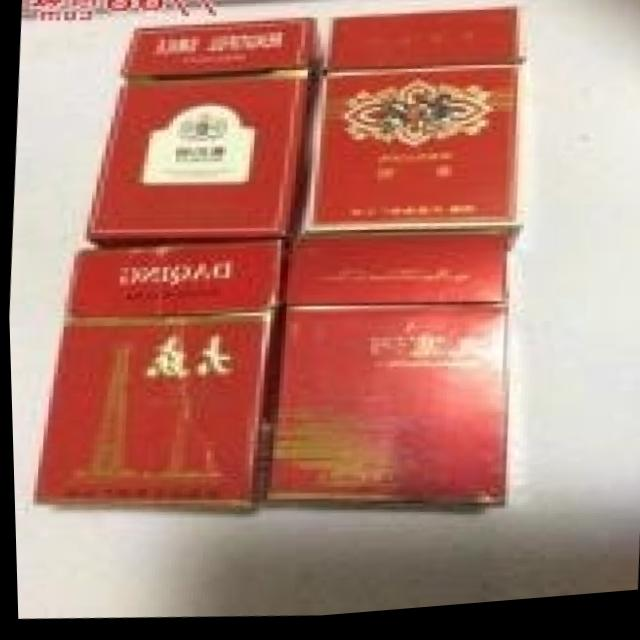box: (29, 238, 287, 518), (259, 238, 502, 510), (295, 12, 522, 260), (85, 20, 323, 246)
